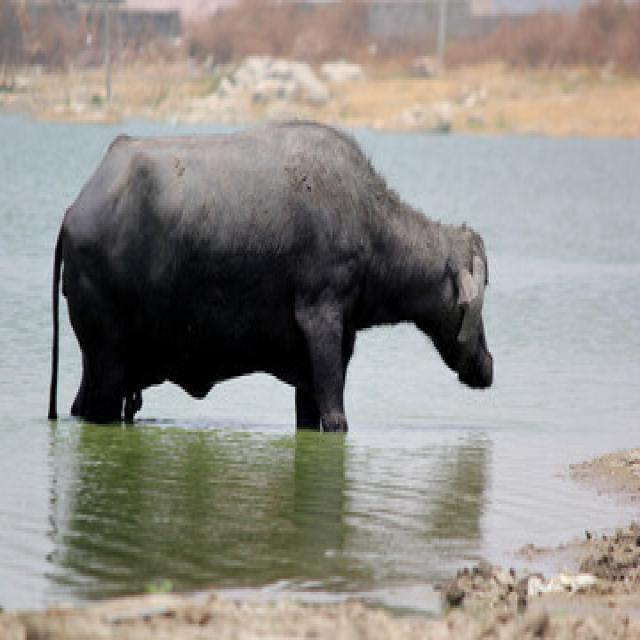Buffalo: (43, 112, 496, 437)
